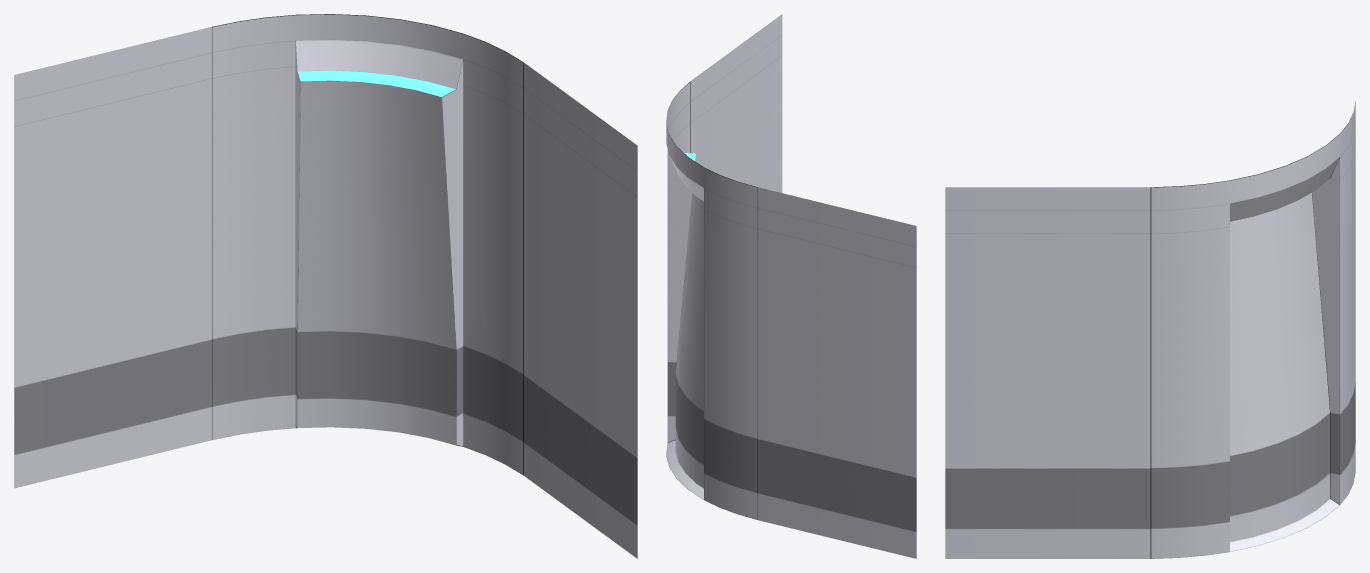
Rendered from Wall_HalfArc_90_03.FBX.
The picture shows the model from 3 angles, left to right: view 1: azimuth 30°, elevation 25°; view 2: azimuth 150°, elevation 25°; view 3: azimuth 270°, elevation 25°; orthographic projection. The views are drawn at different scales.
Parts seen in each view (by area): view 1: Wall_HalfArc_90_03; view 2: Wall_HalfArc_90_03; view 3: Wall_HalfArc_90_03.
Boxes of the visible parts, x1,y1,x2,y2 form: Wall_HalfArc_90_03: (14, 14, 637, 558); Wall_HalfArc_90_03: (666, 14, 916, 558); Wall_HalfArc_90_03: (945, 101, 1355, 558).
Size of the model in its own units: 3 by 3 by 3.
Materials: 2 (1 with a texture image).
